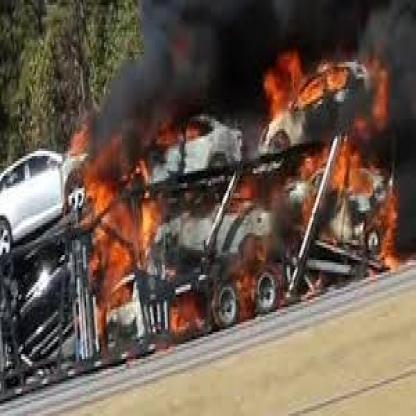fire: (65, 200, 236, 360), (242, 168, 384, 332), (64, 103, 236, 193), (259, 56, 381, 161)
